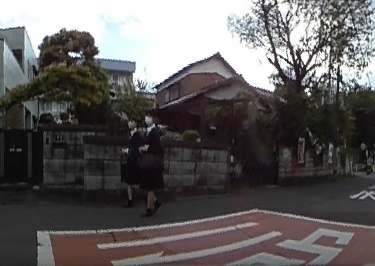person: (138, 109, 161, 215), (121, 115, 142, 206)
